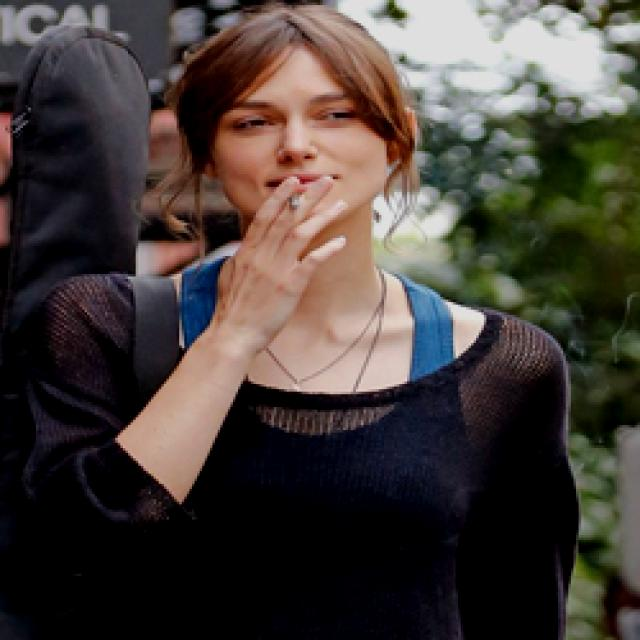Smooking: (279, 178, 312, 219)
